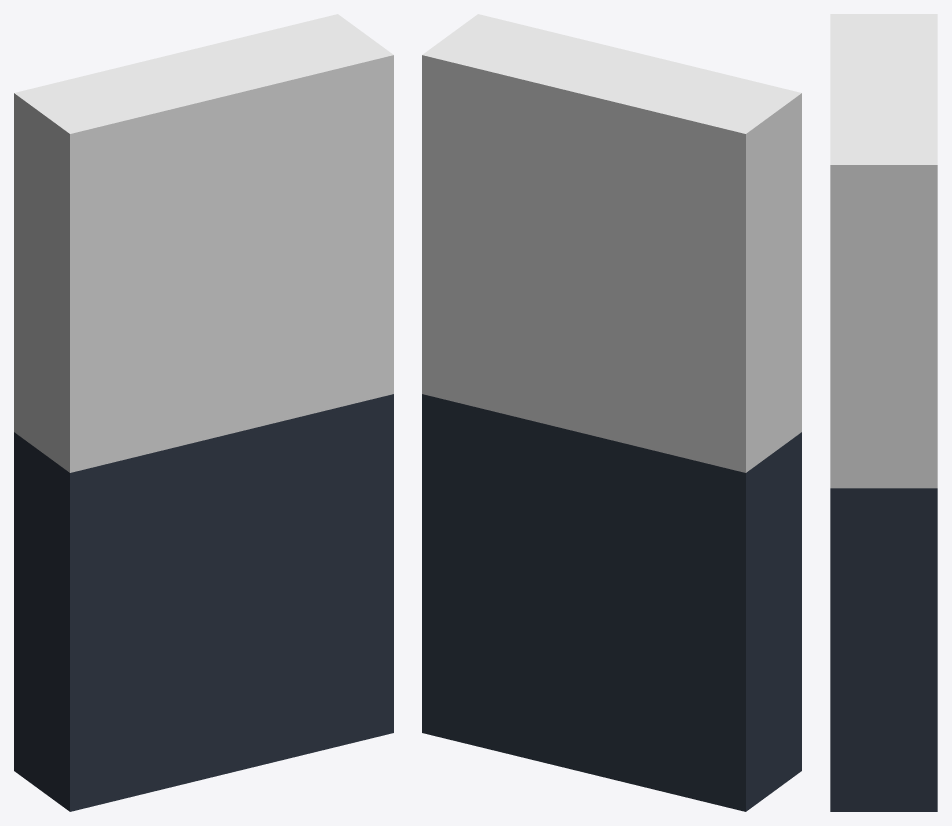
The model's file is SM_OfficeWallOpenThick.fbx.
3 renders of one model, left to right at view 1: azimuth 30°, elevation 25°; view 2: azimuth 150°, elevation 25°; view 3: azimuth 270°, elevation 25°, orthographic. The views are drawn at different scales.
Parts seen in each view (by area): view 1: SM_WallOpenThick; view 2: SM_WallOpenThick; view 3: SM_WallOpenThick.
Part boxes in pixels (x1=…): SM_WallOpenThick: x1=14, y1=14, x2=393, y2=811; SM_WallOpenThick: x1=422, y1=14, x2=801, y2=811; SM_WallOpenThick: x1=830, y1=14, x2=937, y2=811.
Bounding box in the file's own units: 100 × 200 × 30.
